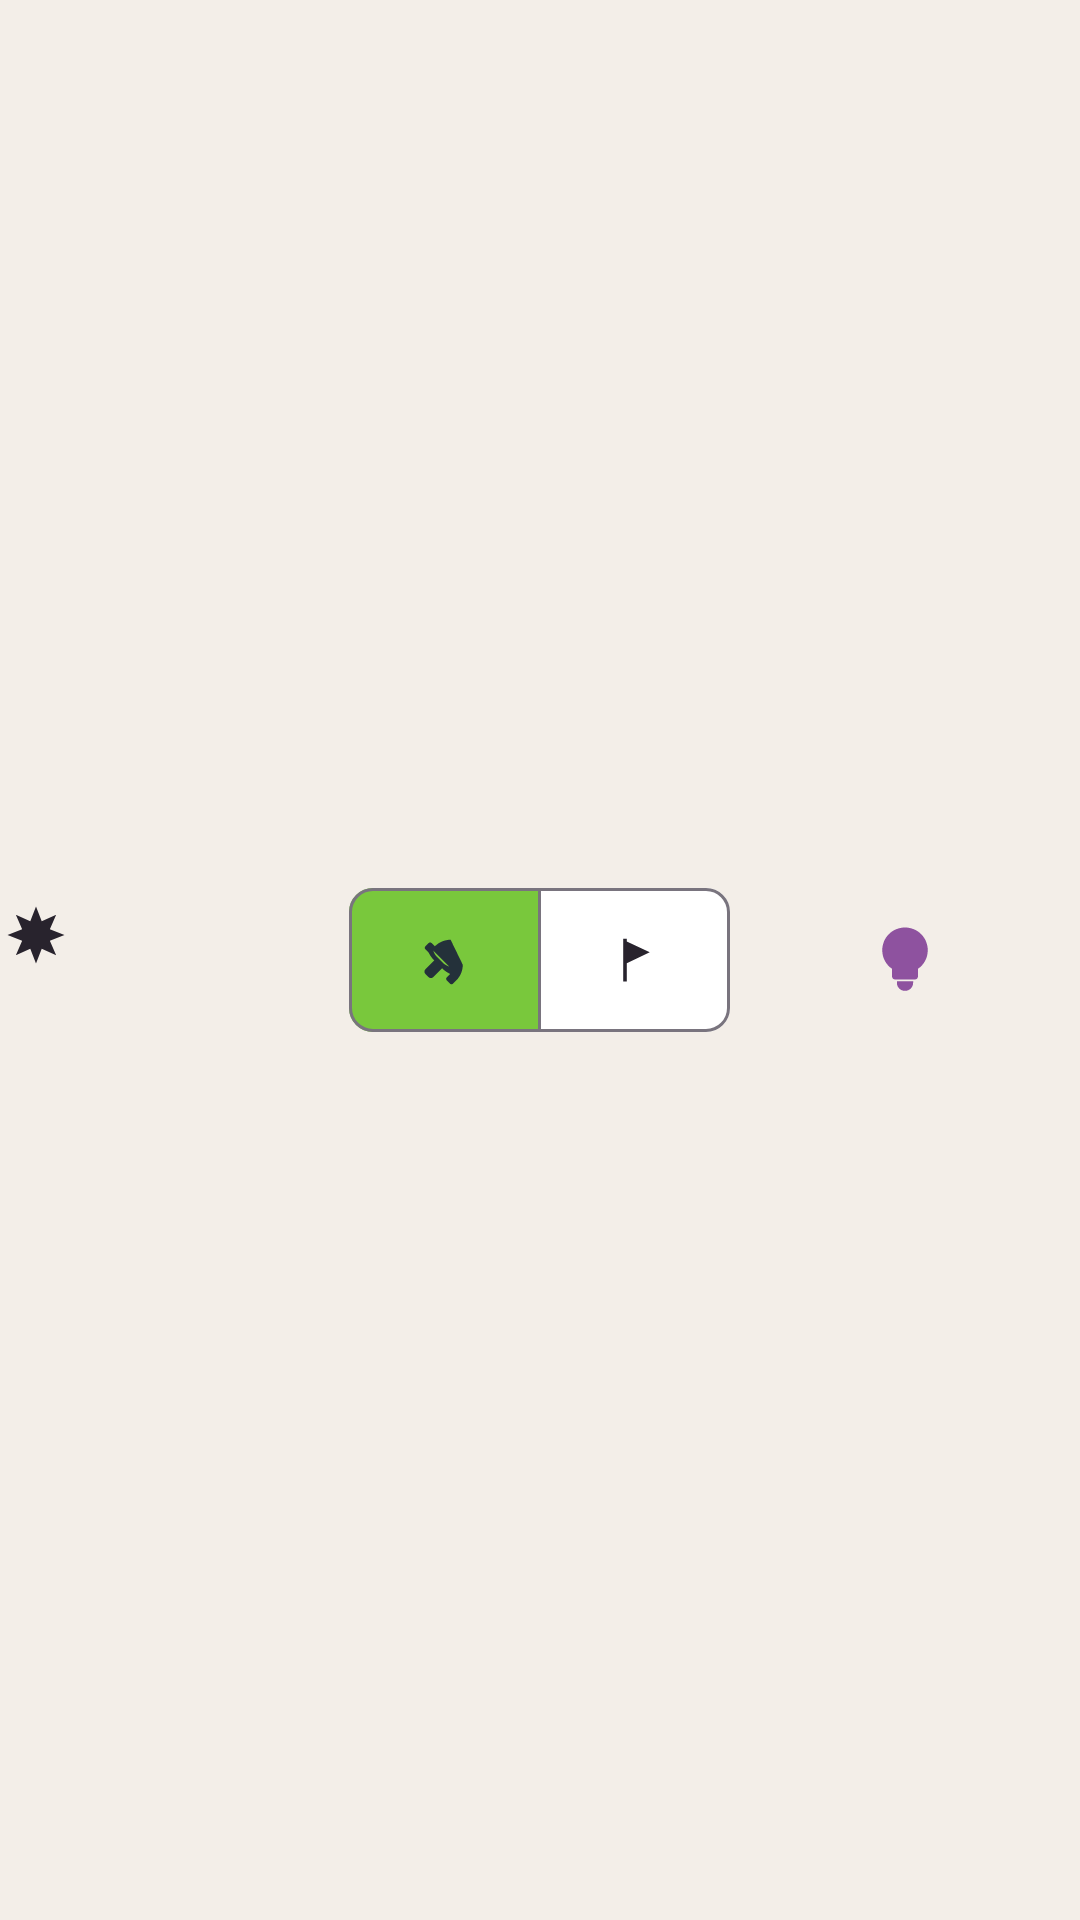

Screen size 1080x1920. Icon name, then its center in pixels as (x=x, y=y):
Colocar banderas: (x=634, y=960)
Descubrir casillas: (x=445, y=960)
Revelar una casilla segura, una vez por partida: (x=905, y=959)
